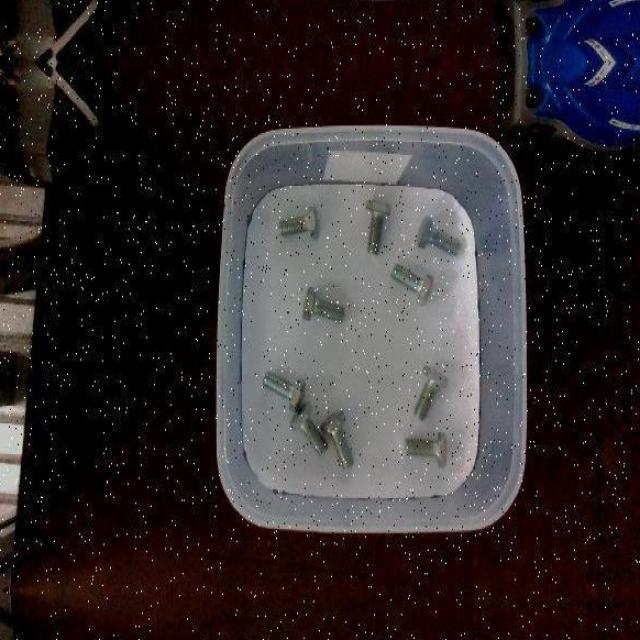screw: (289, 401, 329, 457), (413, 363, 450, 422), (319, 409, 354, 469), (391, 263, 434, 307), (262, 368, 304, 411), (416, 216, 460, 256), (302, 286, 346, 323), (404, 431, 448, 468), (365, 197, 392, 254), (278, 206, 320, 240)
